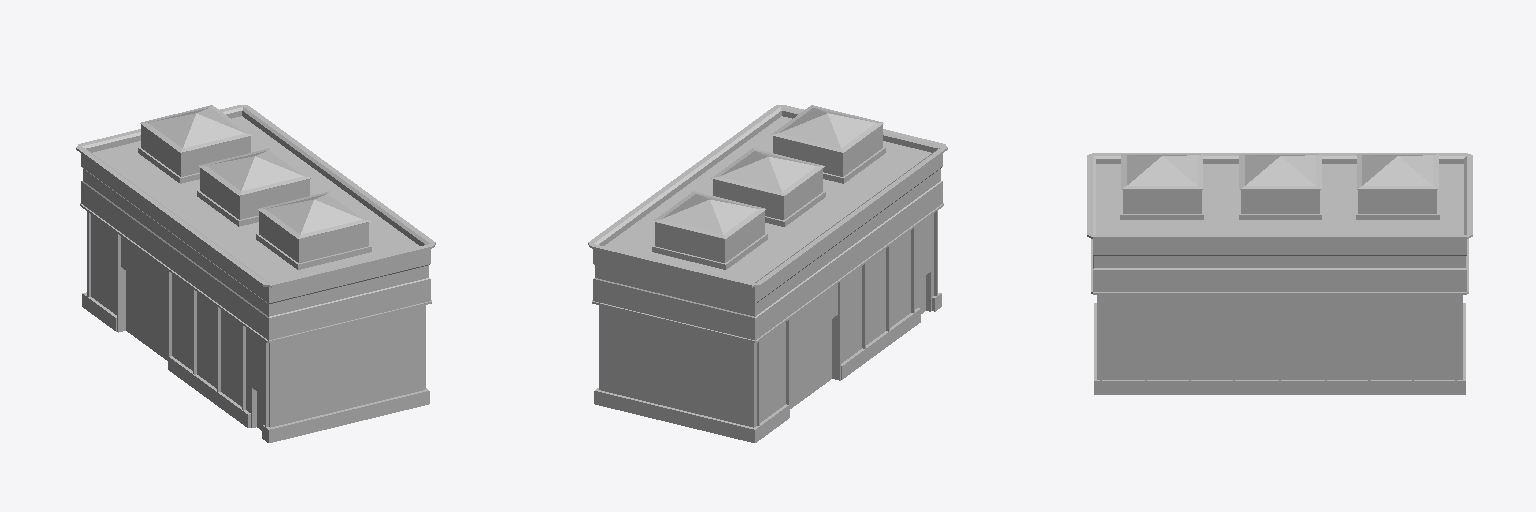
Rendered from Building_1.obj.
3 views of the same model, side by side, from view 1: azimuth 30°, elevation 25°; view 2: azimuth 150°, elevation 25°; view 3: azimuth 270°, elevation 25° (orthographic).
Visible parts, largest first — view 1: Building_1; view 2: Building_1; view 3: Building_1.
Part boxes in pixels (x1,y1,x2,y2): Building_1: (76, 105, 435, 442); Building_1: (588, 105, 947, 442); Building_1: (1087, 153, 1472, 394).
Bounding box in the file's own units: 11.67 × 12.88 × 22.62.